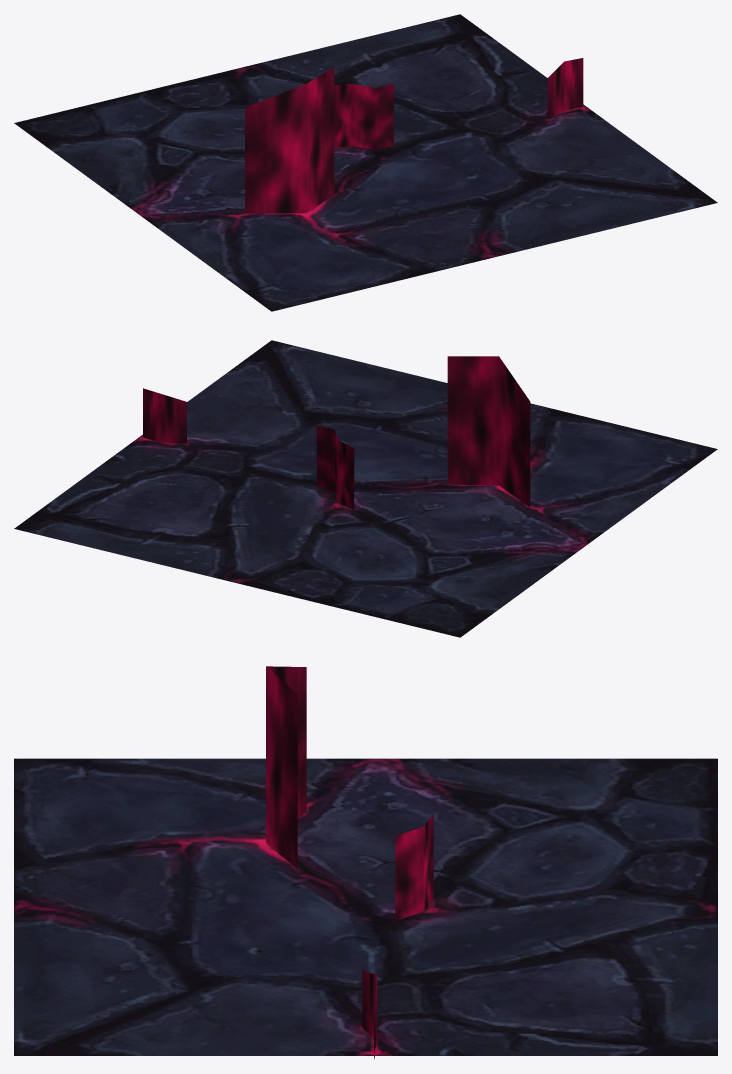
The model's file is palace_floor_blank_03.fbx.
3 renders of one model, top to bottom at view 1: azimuth 30°, elevation 25°; view 2: azimuth 150°, elevation 25°; view 3: azimuth 270°, elevation 25°, orthographic. The views are drawn at different scales.
Visible parts, largest first — view 1: palace_floor_blank_03-0; view 2: palace_floor_blank_03-0; view 3: palace_floor_blank_03-0.
Boxes of the visible parts, x1,y1,x2,y2 form: palace_floor_blank_03-0: (14, 14, 717, 311); palace_floor_blank_03-0: (14, 340, 717, 637); palace_floor_blank_03-0: (14, 666, 717, 1059).
Bounding box in the file's own units: 4 × 1.14 × 4.
